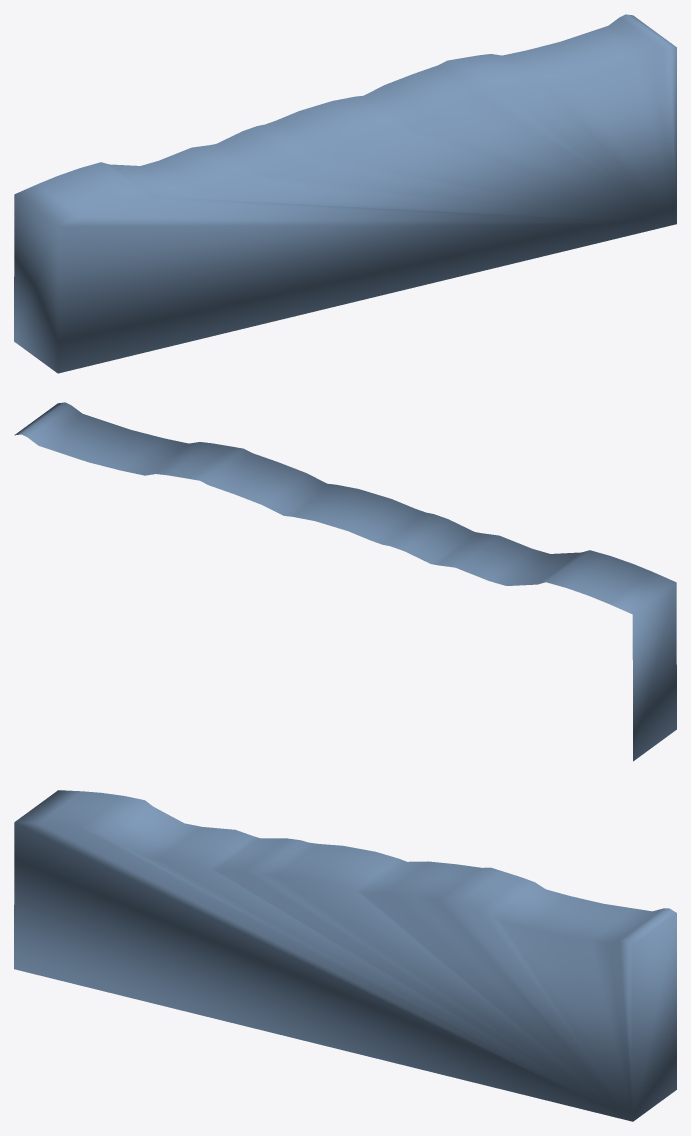
File: farthest.glb
3 views of the same model, one above another, from view 1: azimuth 30°, elevation 25°; view 2: azimuth 150°, elevation 25°; view 3: azimuth 330°, elevation 25° (orthographic).
Parts seen in each view (by area): view 1: farthest; view 2: farthest; view 3: farthest.
Part boxes in pixels (bbox=[...]): farthest: bbox=[14, 14, 676, 373]; farthest: bbox=[14, 402, 676, 761]; farthest: bbox=[14, 790, 676, 1121].
Size of the model in its own units: 5.01 by 1.39 by 0.6152.
